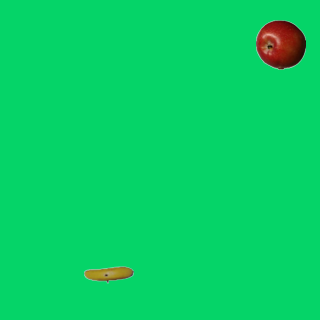Apple Braeburn: (255, 19, 305, 69)
Banana: (83, 249, 133, 299)
